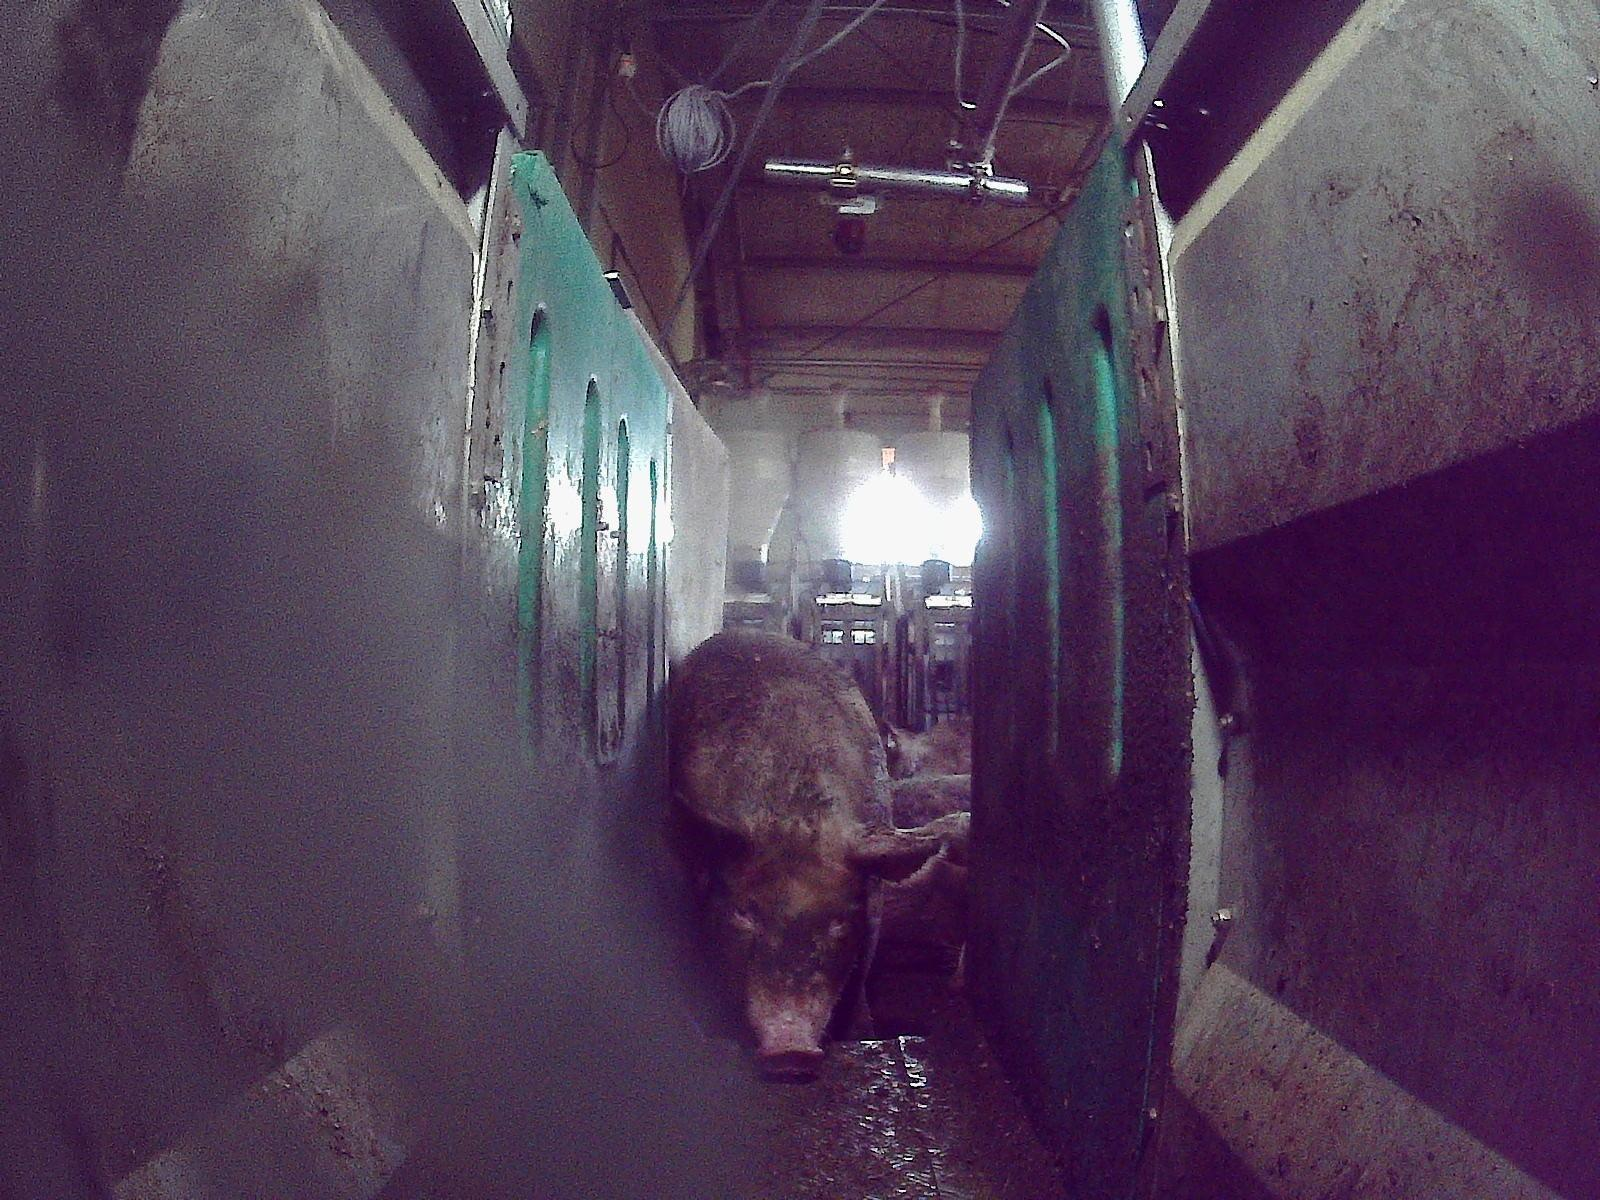Face: (709, 827, 874, 1064)
